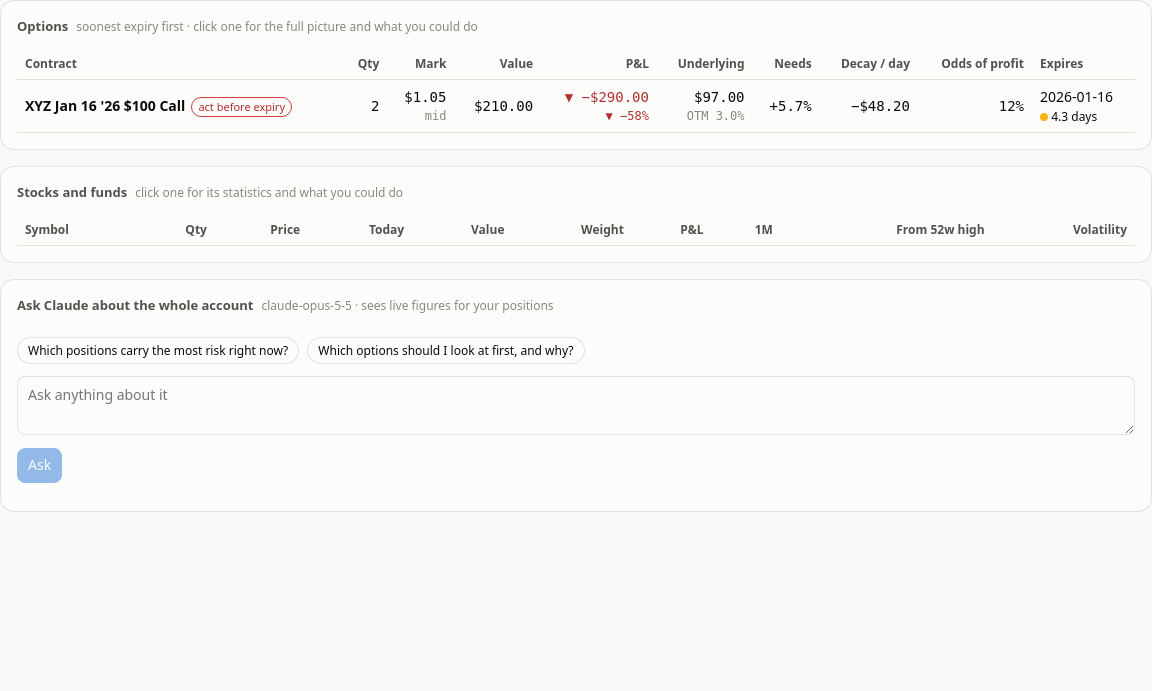
Scenario: Positions view › lists options with their odds and opens one with its notes and actions
Expected: the text "act before expiry" is shown, [191,97,292,117]
Expected: the text "12%" is shown, [918,80,1032,132]
Click the button "XYZ Jan 16 '26 $100 Call". click: (105, 106)
box: [25,96,185,116]
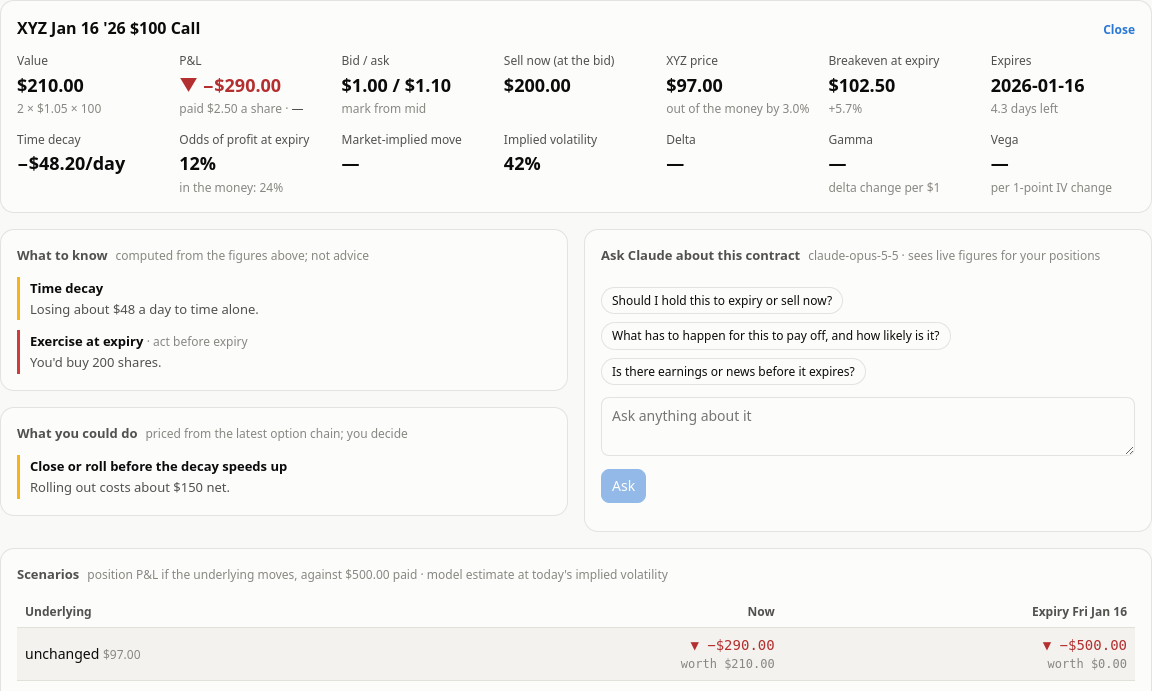
Result: the text "Losing about $48 a day to time alone." is shown at [30,300,259,318]
Result: the heading "What you could do" is shown at [17,424,138,442]
Result: the text "Rolling out costs about $150 net." is shown at [30,478,230,496]
